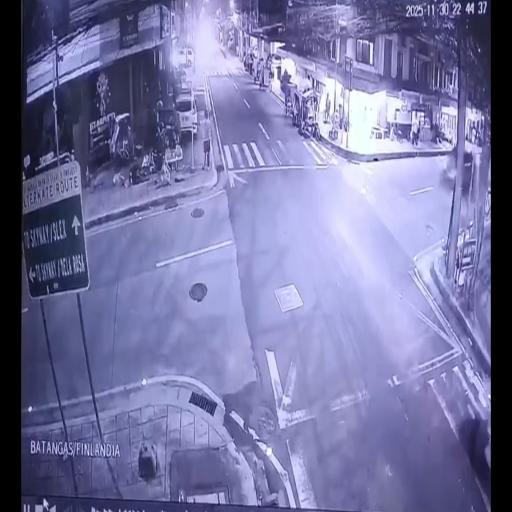Car: (446, 137, 474, 192)
